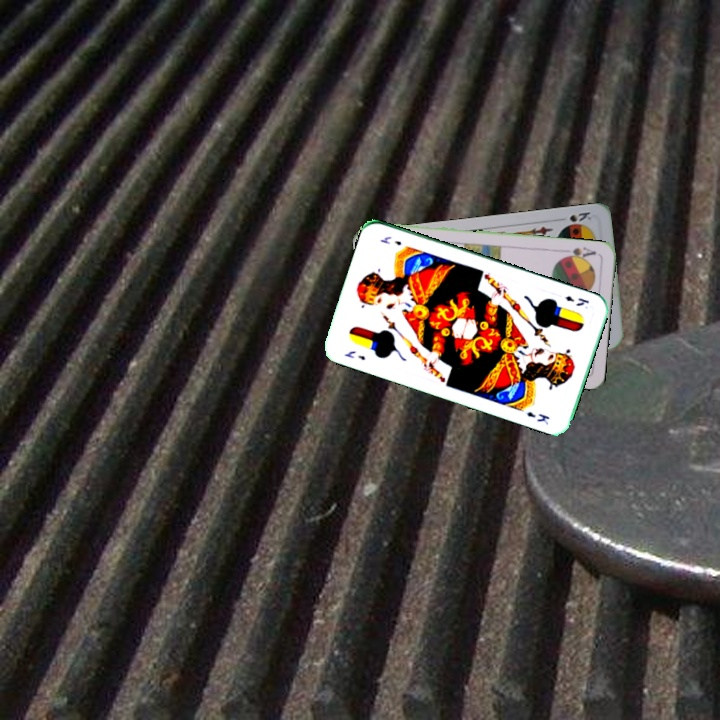EK: (561, 291, 592, 309), (340, 347, 368, 363)
SA: (559, 243, 598, 263)
SK: (565, 208, 594, 224)
